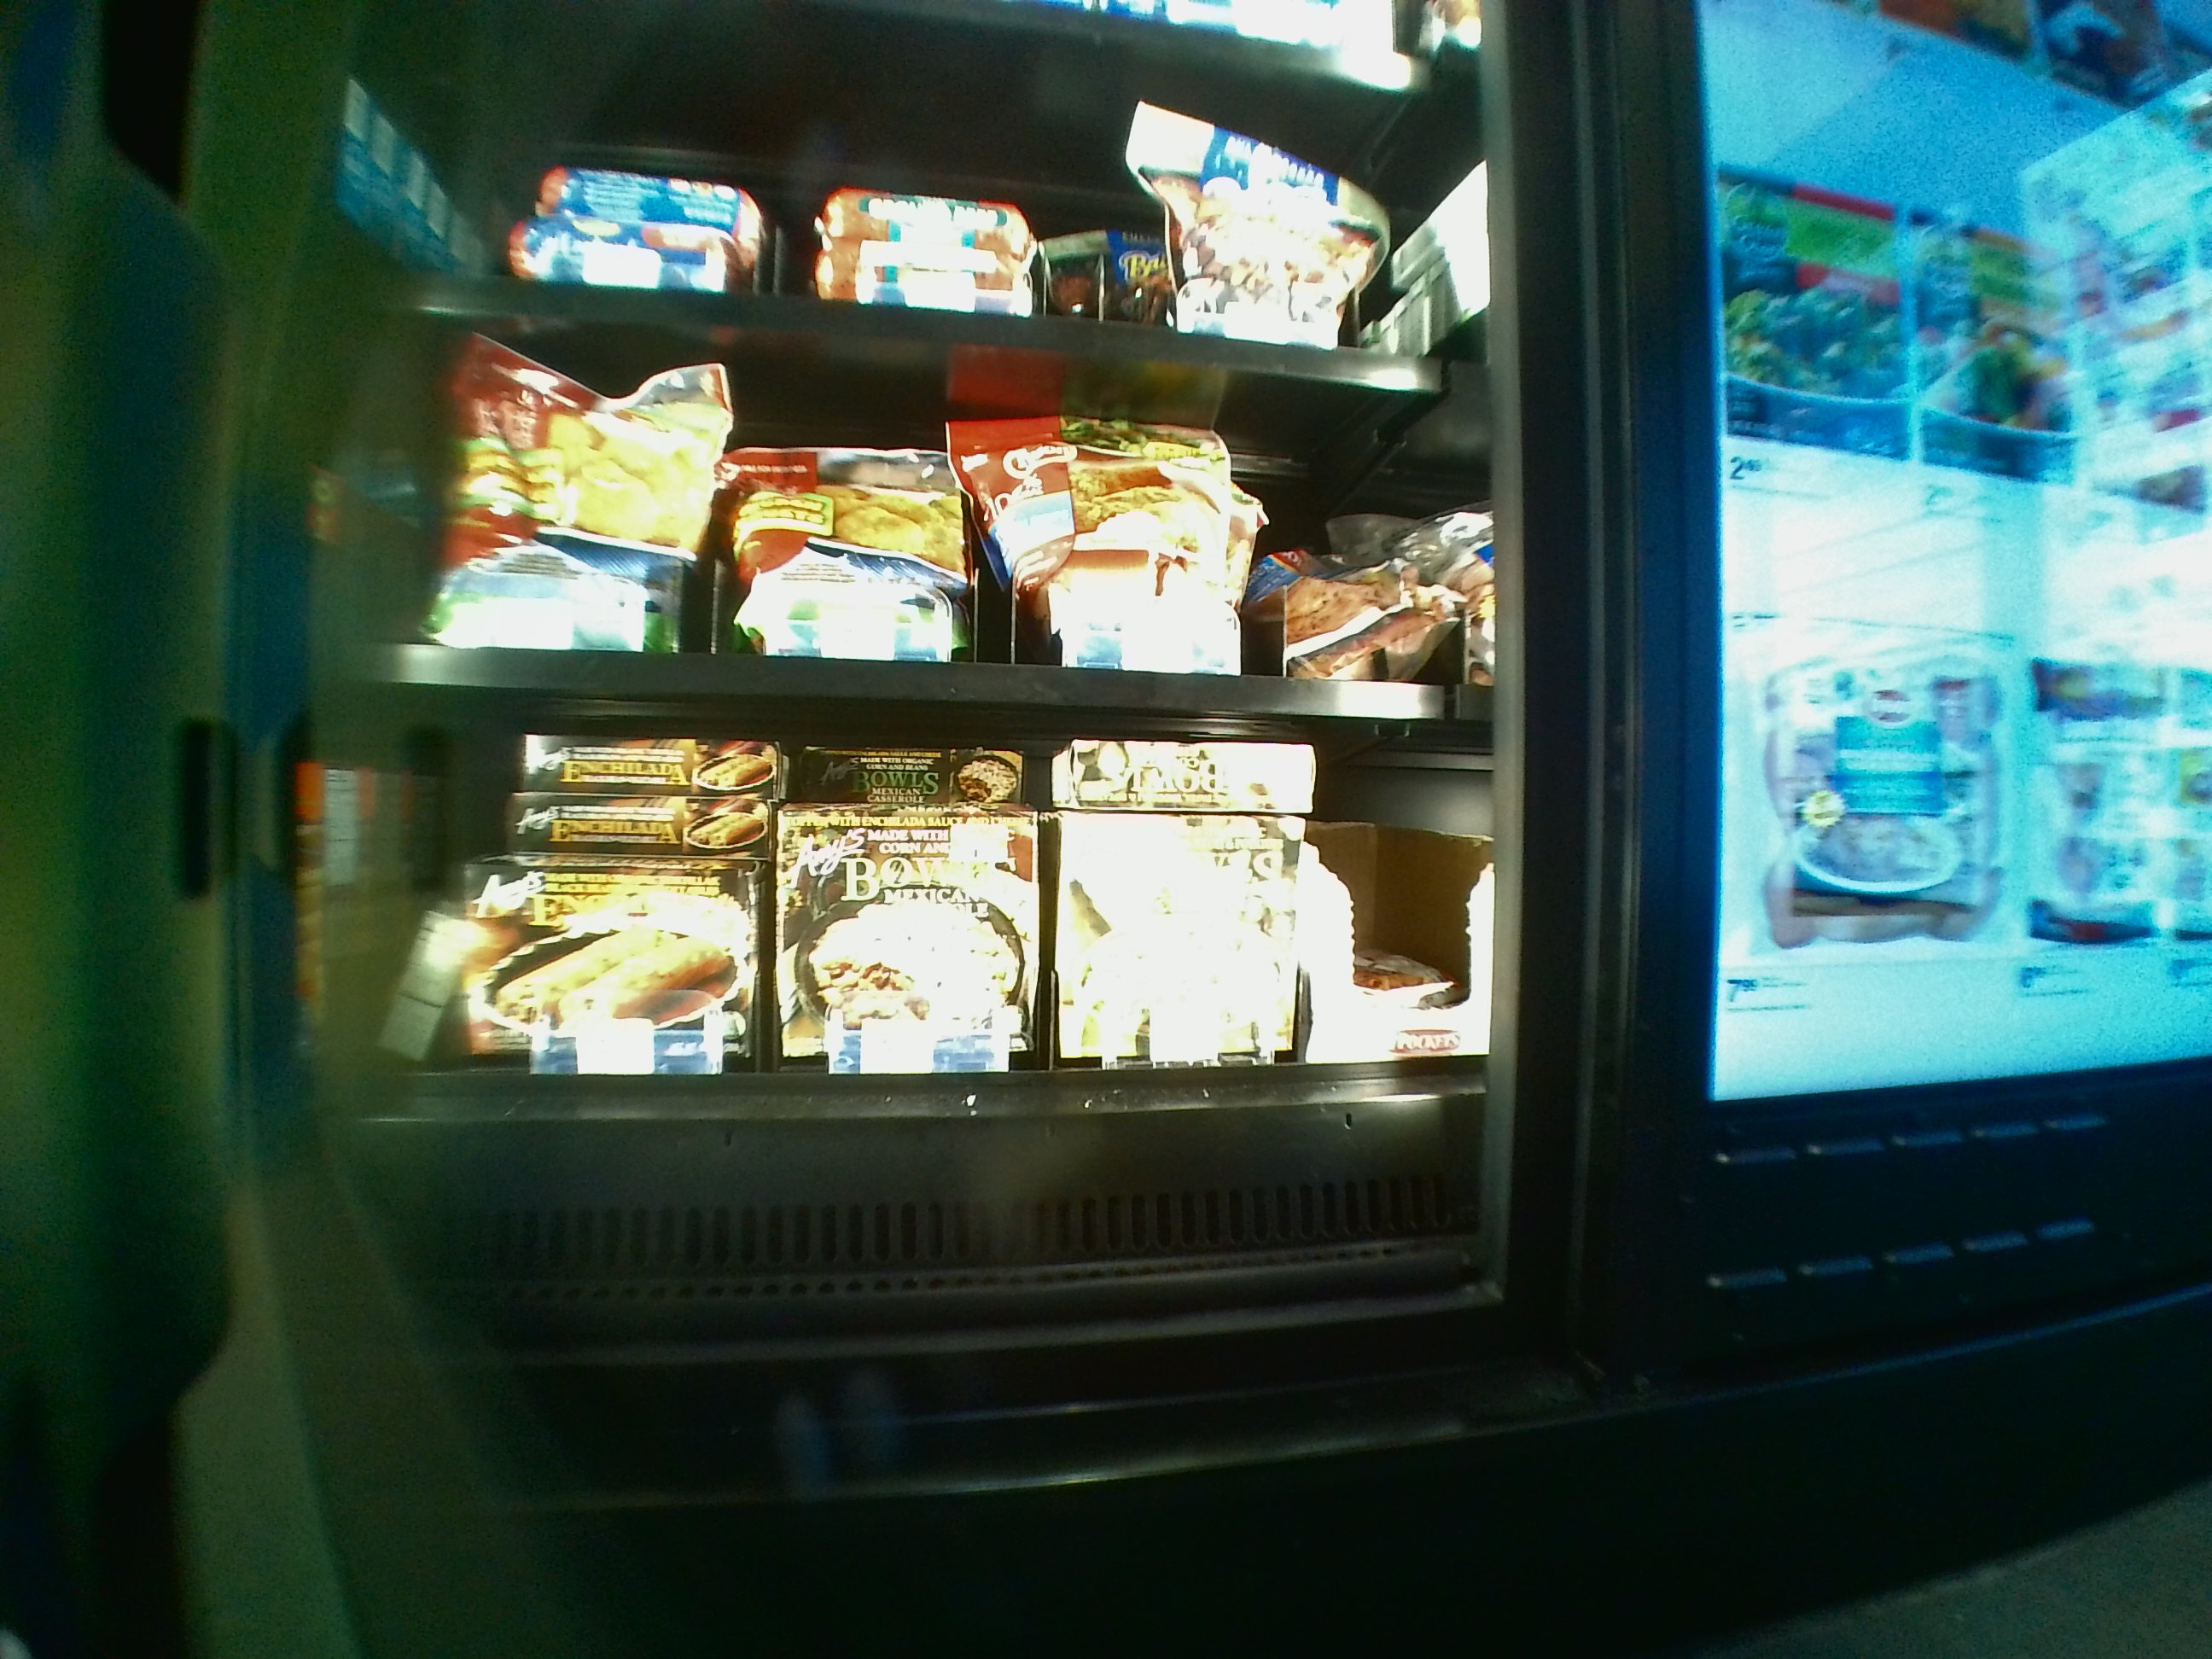shelf: (348, 727, 1489, 1298), (347, 315, 1489, 713)
